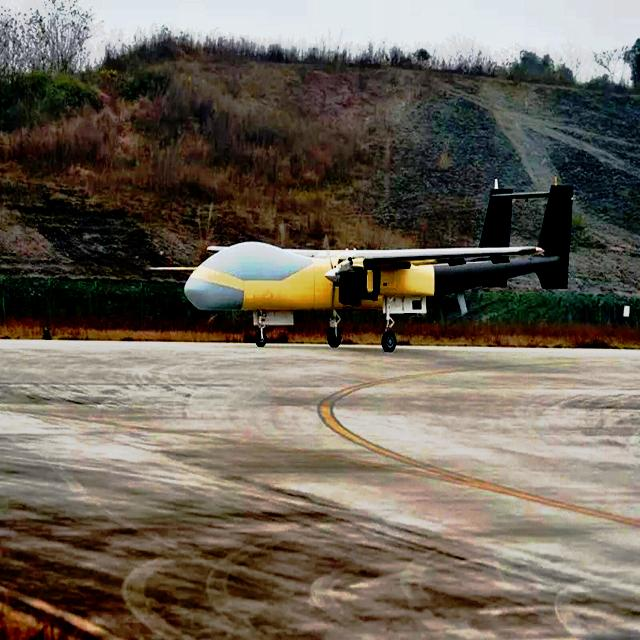Aircraft: (149, 176, 575, 351)
